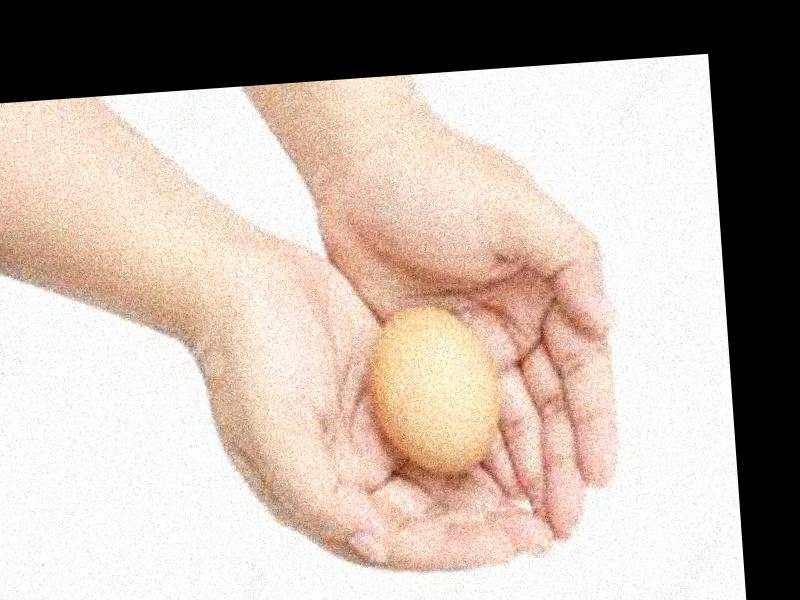Eggs: (364, 305, 500, 474)
